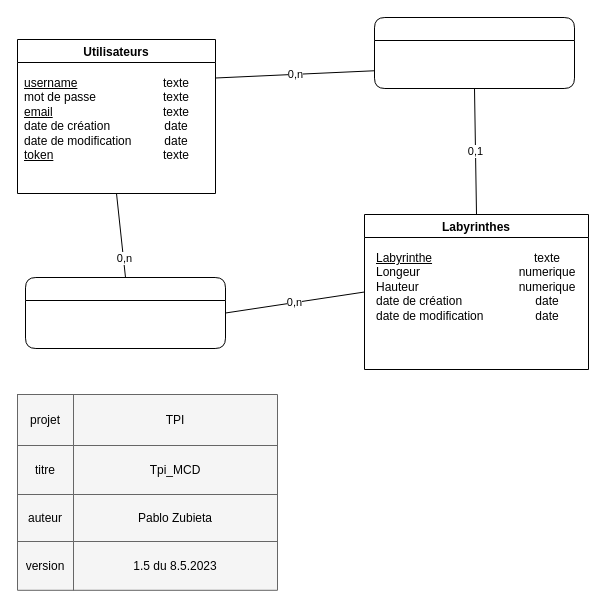
Image size: 606x608. Some labels were removed from this diagram. The shapes that lost their labels are listed below. From the top down, each one's centre as x and y in pixels, then its label:
point 474,52: Créer
point 125,312: Resoudre
